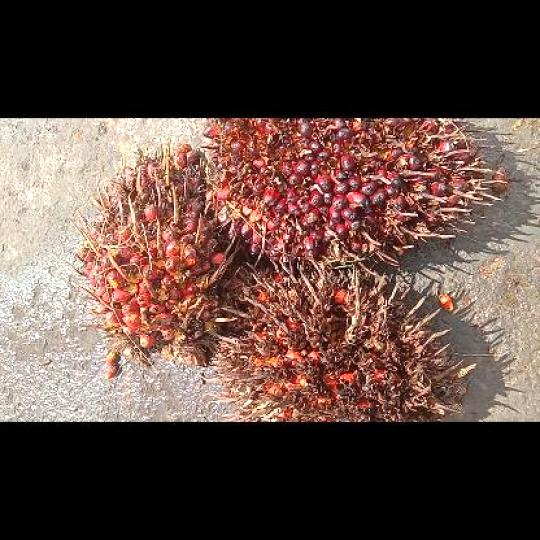masak: (202, 118, 506, 274), (69, 140, 240, 364)
terlalu masak: (202, 255, 476, 420)
